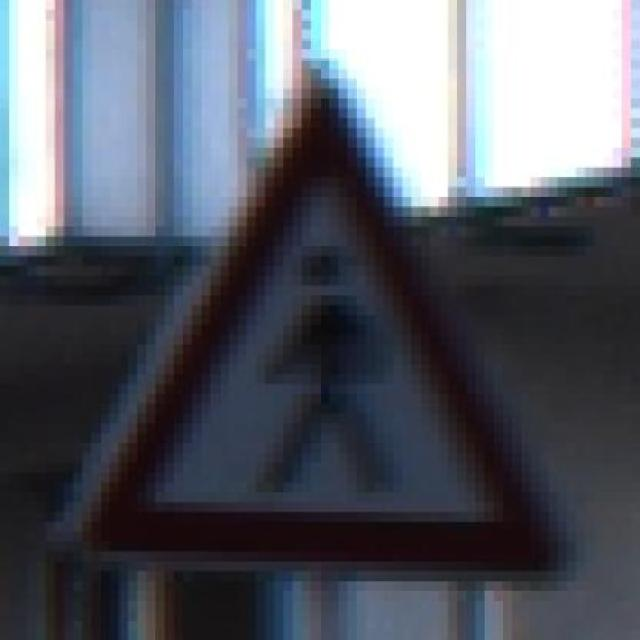Pedestrian Crossing: (46, 69, 586, 591)
